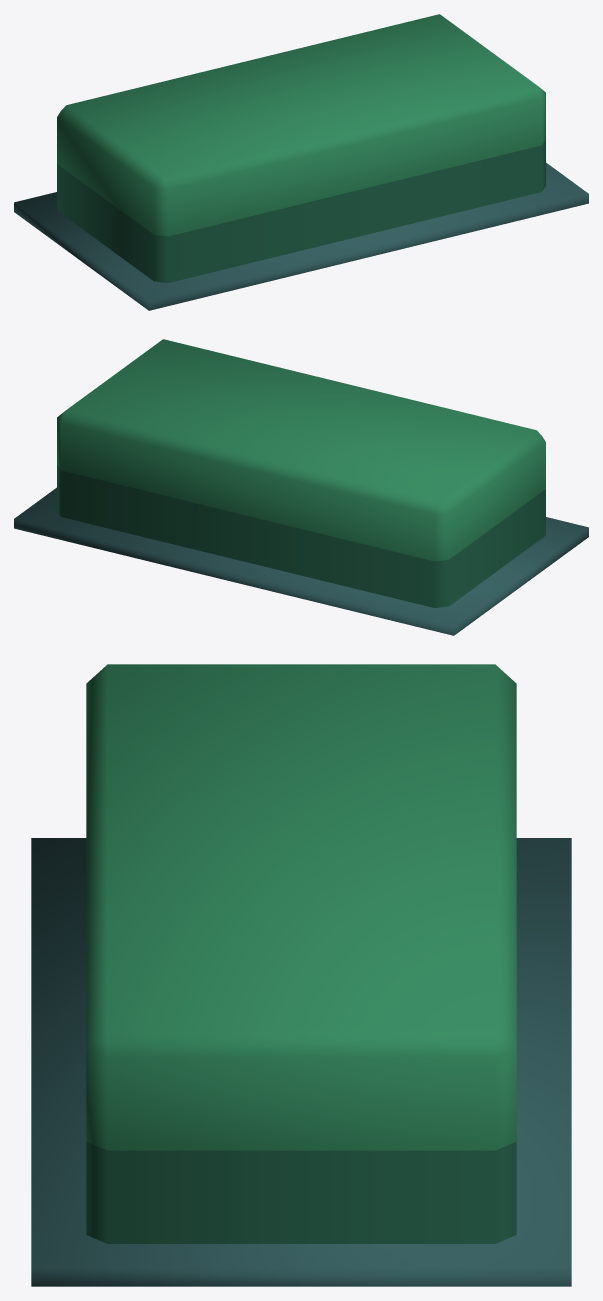
File: RoofAdd_2_B_2.fbx
The picture shows the model from 3 angles, top to bottom: view 1: azimuth 30°, elevation 25°; view 2: azimuth 150°, elevation 25°; view 3: azimuth 270°, elevation 25°; orthographic projection. The views are drawn at different scales.
Visible parts, largest first — view 1: RoofAdd_2_B_2; view 2: RoofAdd_2_B_2; view 3: RoofAdd_2_B_2.
Part boxes in pixels (box(x1,y1,x2,y2)): RoofAdd_2_B_2: box(14, 14, 588, 310); RoofAdd_2_B_2: box(14, 339, 588, 635); RoofAdd_2_B_2: box(31, 664, 571, 1286).
Bounding box in the file's own units: 303 × 74.17 × 161.
